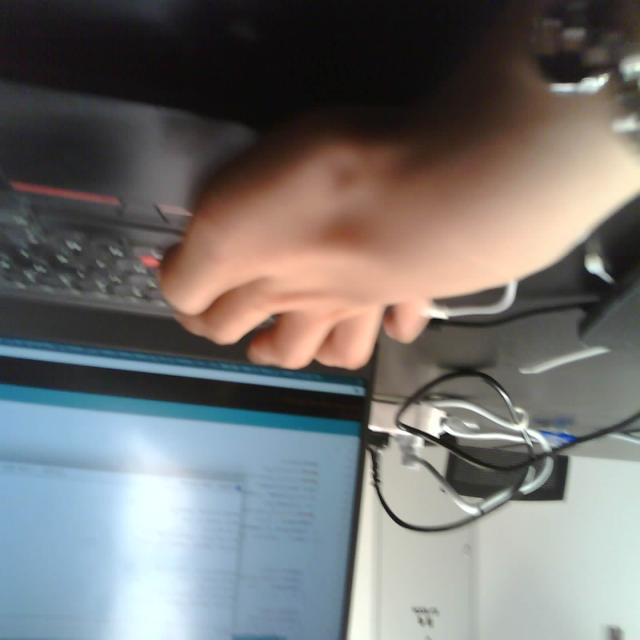keyboard-with-hands: (0, 78, 392, 345)
